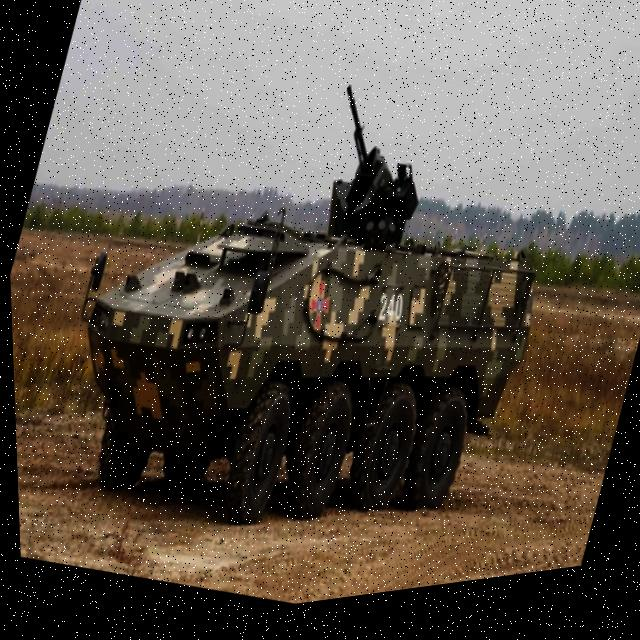MIL_APC: (17, 54, 600, 609)
